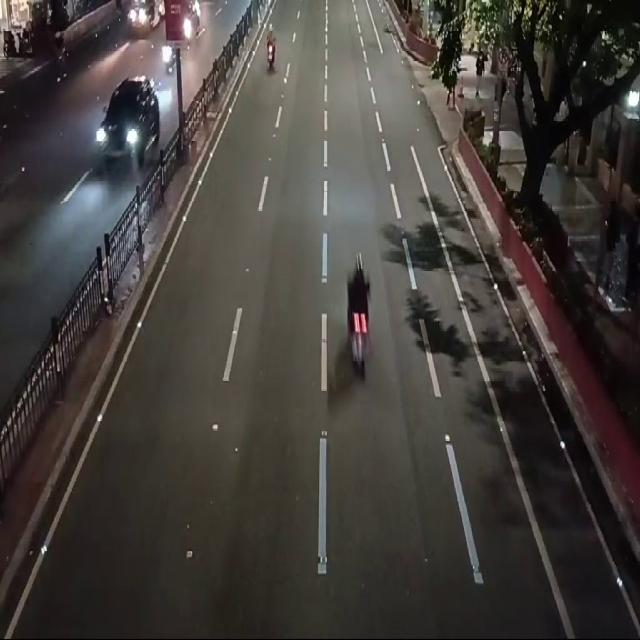car: (84, 65, 170, 185)
motorcycle: (341, 232, 378, 390), (260, 13, 281, 85)
